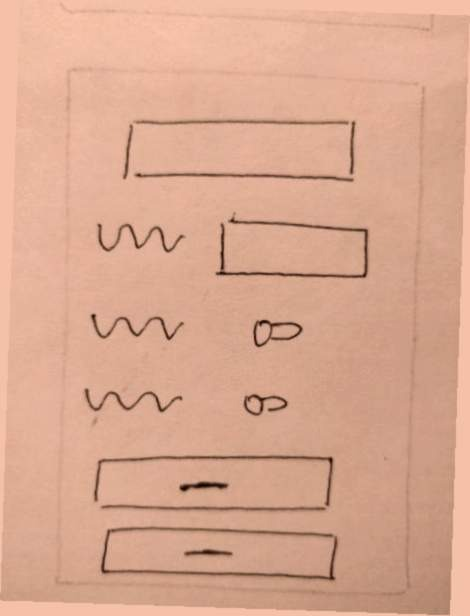button: (81, 442, 349, 521), (91, 520, 356, 588)
switch: (235, 308, 313, 353), (228, 377, 296, 424)
text: (70, 372, 188, 423), (79, 208, 186, 263), (79, 298, 190, 350)
text_input: (117, 104, 364, 186), (199, 202, 379, 291)
